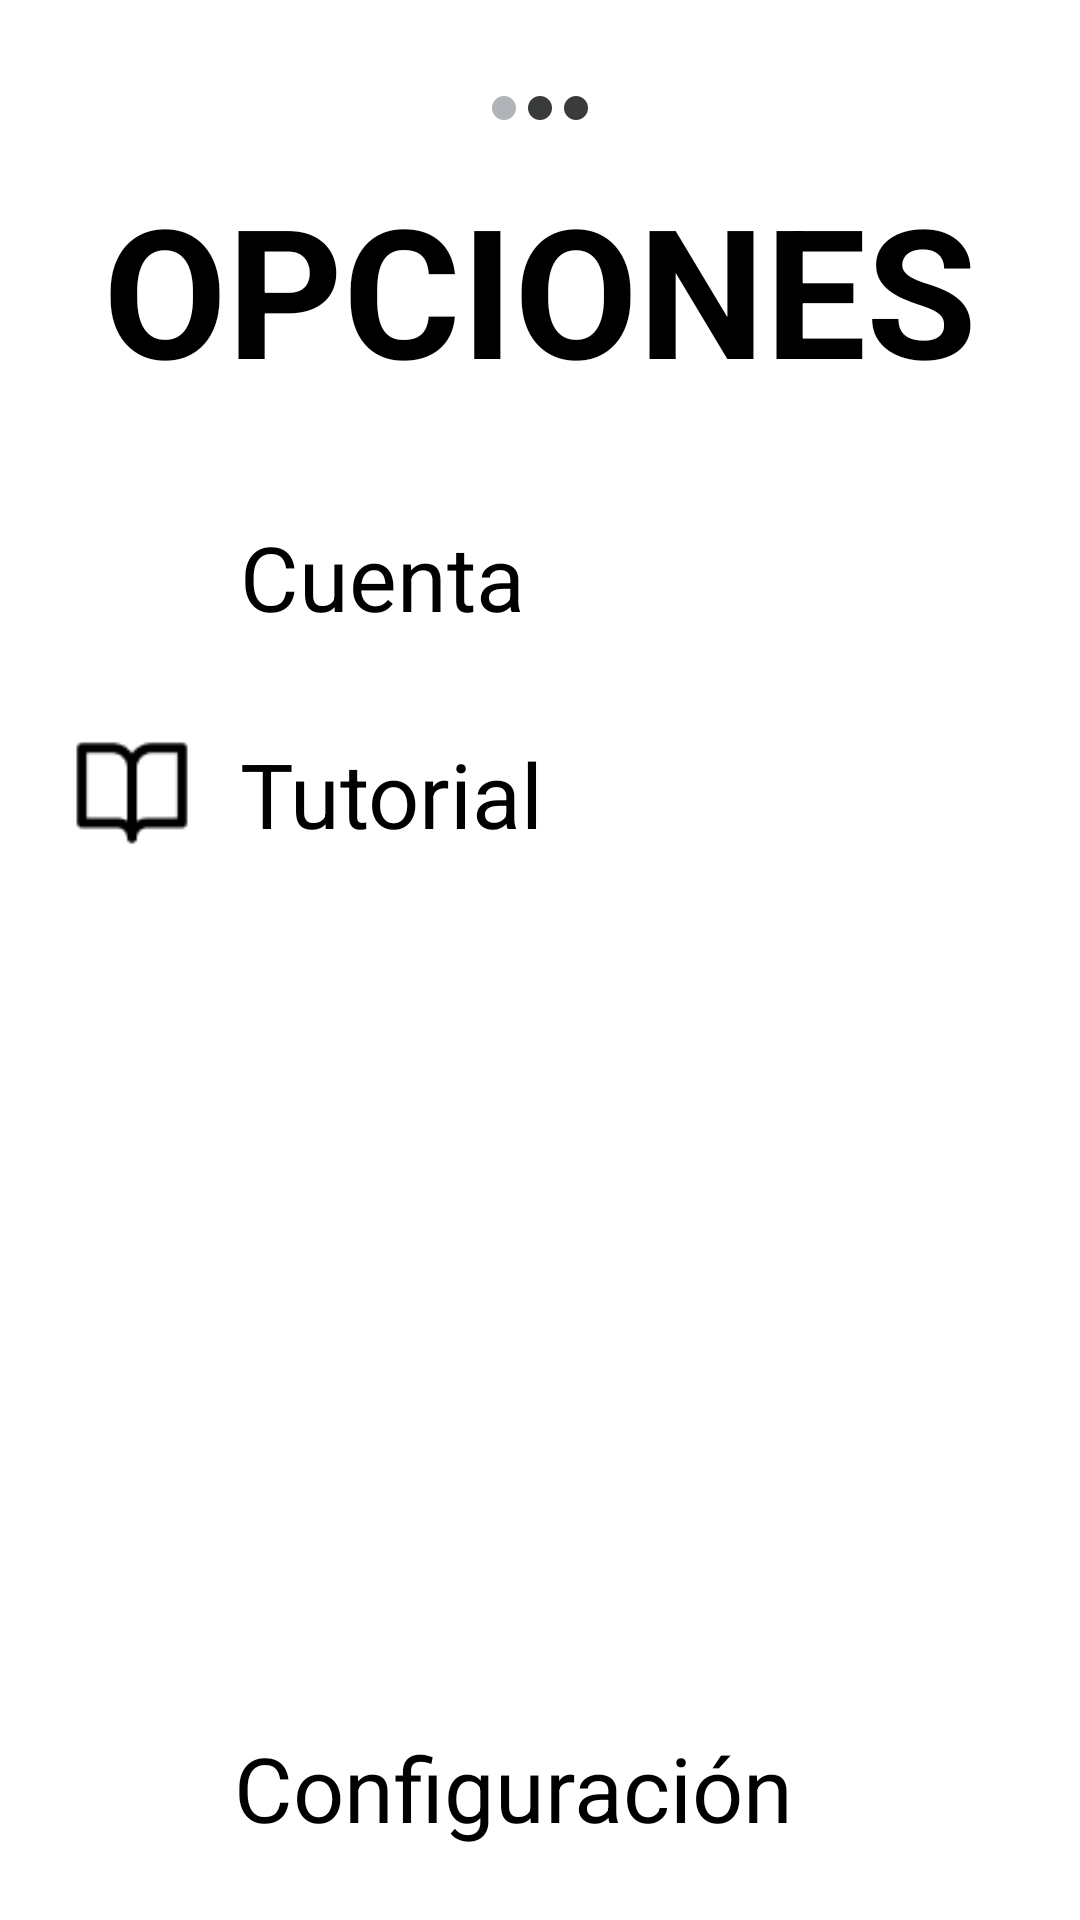

Where to tap for icons on this 1080 x 1920 app screen, as [x,y]:
libro: [132,793]
